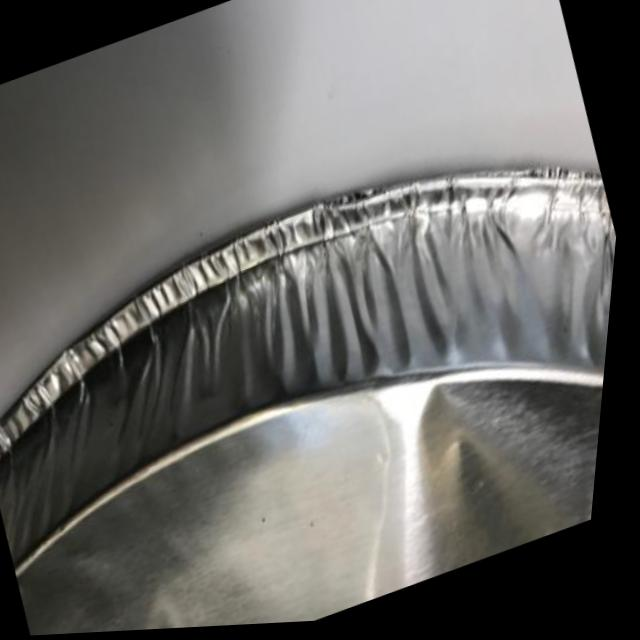metal: (0, 50, 635, 640)
